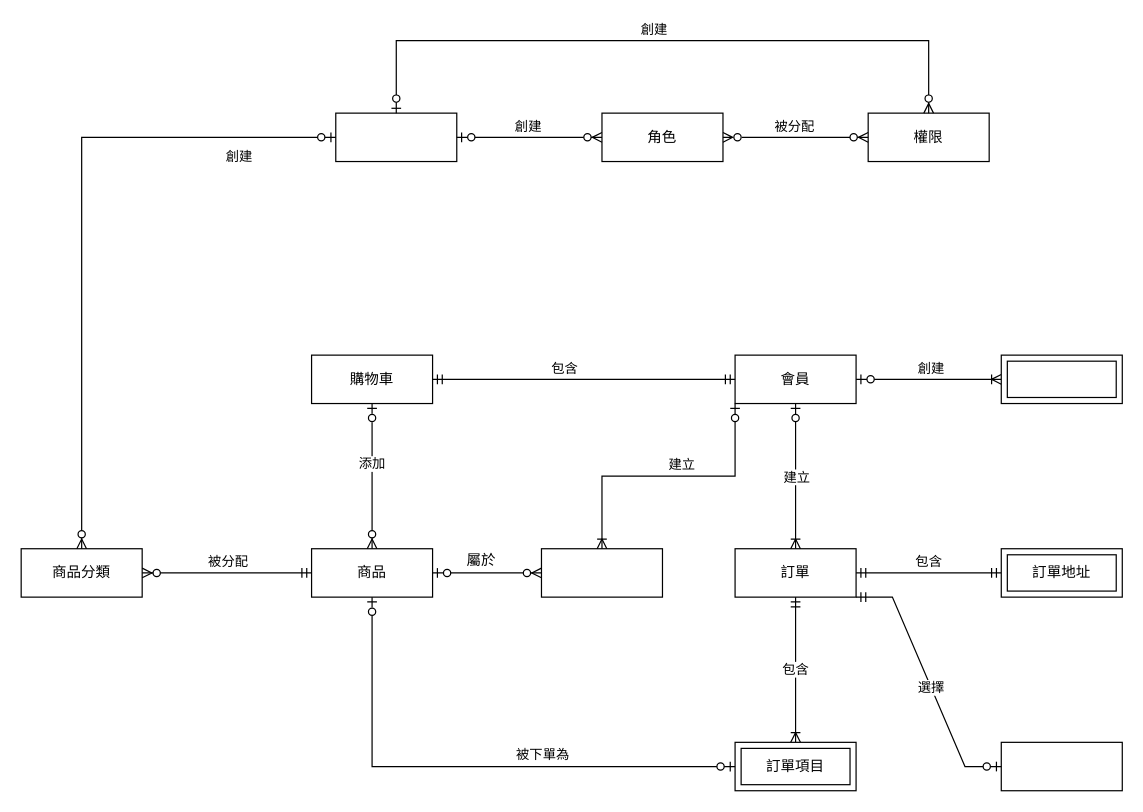
Some shapes in this 1143 by 812 pixel diagram are drawn without their labels. Here are the shapes that lost their labels. From the top down, the box of each, then its label:
(335, 112, 457, 162): 管理員
(1000, 354, 1122, 404): 會員地址
(540, 548, 662, 597): 評論
(1000, 741, 1122, 791): 付款方式
